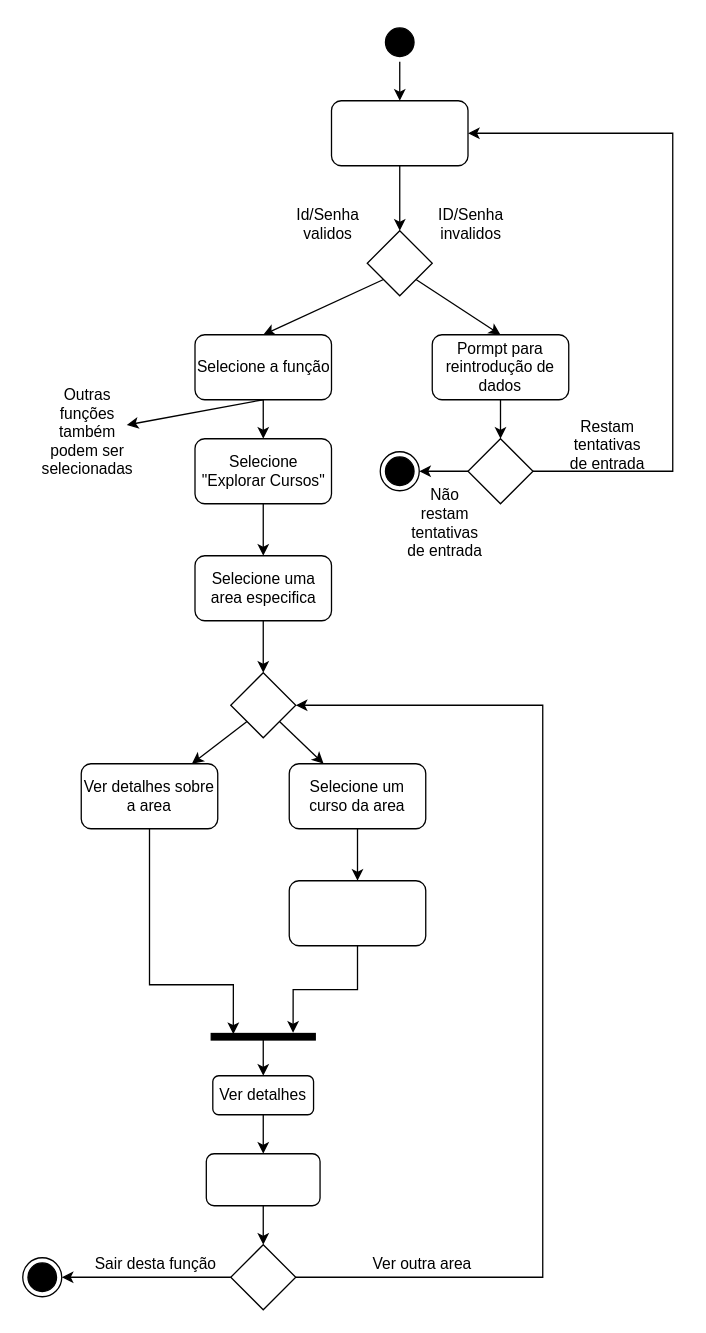
This 706x1333 diagram has some shape labels left out. The centre of each missing label's shape, as x and y in pixels:
Introduza ID e senha: the point at 399,132
Selecione detalhes sobre o curso: the point at 357,912
Solicita ver outra area: the point at 262,1179
